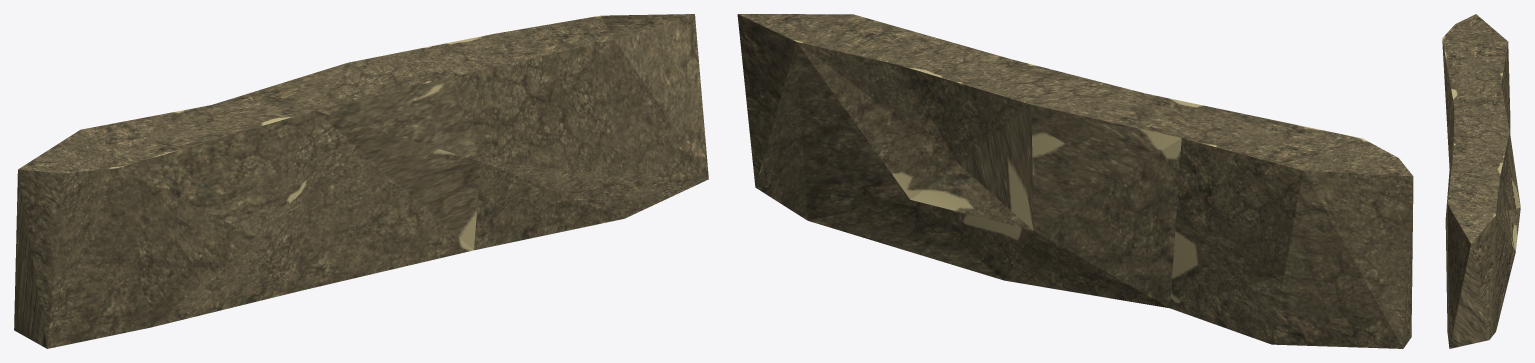
Rendered from CaveWalls4_A_COL.obj.
3 views of the same model, side by side, from view 1: azimuth 30°, elevation 25°; view 2: azimuth 150°, elevation 25°; view 3: azimuth 270°, elevation 25° (orthographic). The views are drawn at different scales.
Visible parts, largest first — view 1: CaveWalls4_A.001; view 2: CaveWalls4_A.001; view 3: CaveWalls4_A.001.
Part boxes in pixels (box(x1,y1,x2,y2)): CaveWalls4_A.001: box(14, 14, 708, 348); CaveWalls4_A.001: box(737, 14, 1413, 348); CaveWalls4_A.001: box(1442, 14, 1520, 348).
Size of the model in its own units: 130 by 33.7 by 19.17.
1 material, 1 textured.
